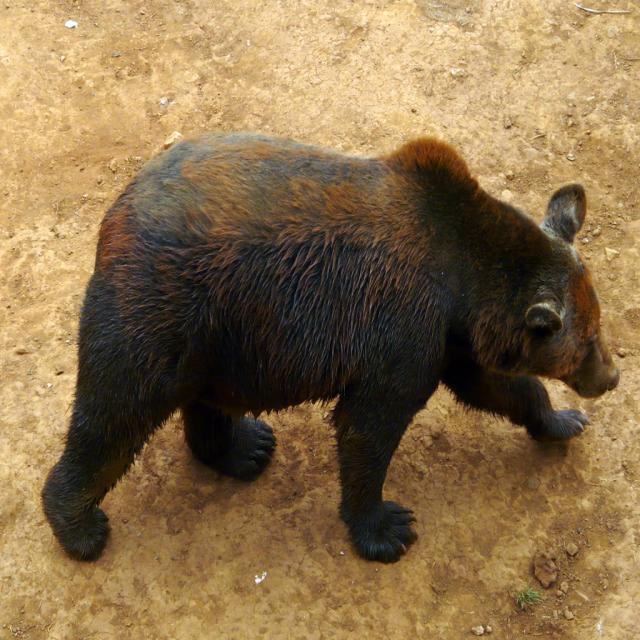Cheetahs: (40, 132, 618, 566)
